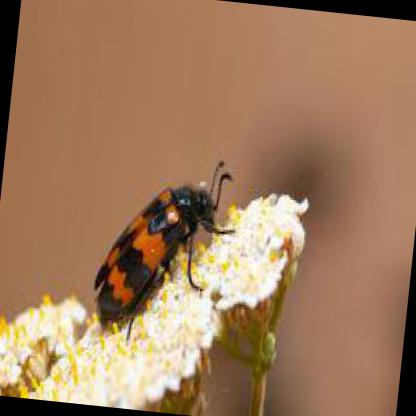blister beetle: (89, 160, 230, 319)
